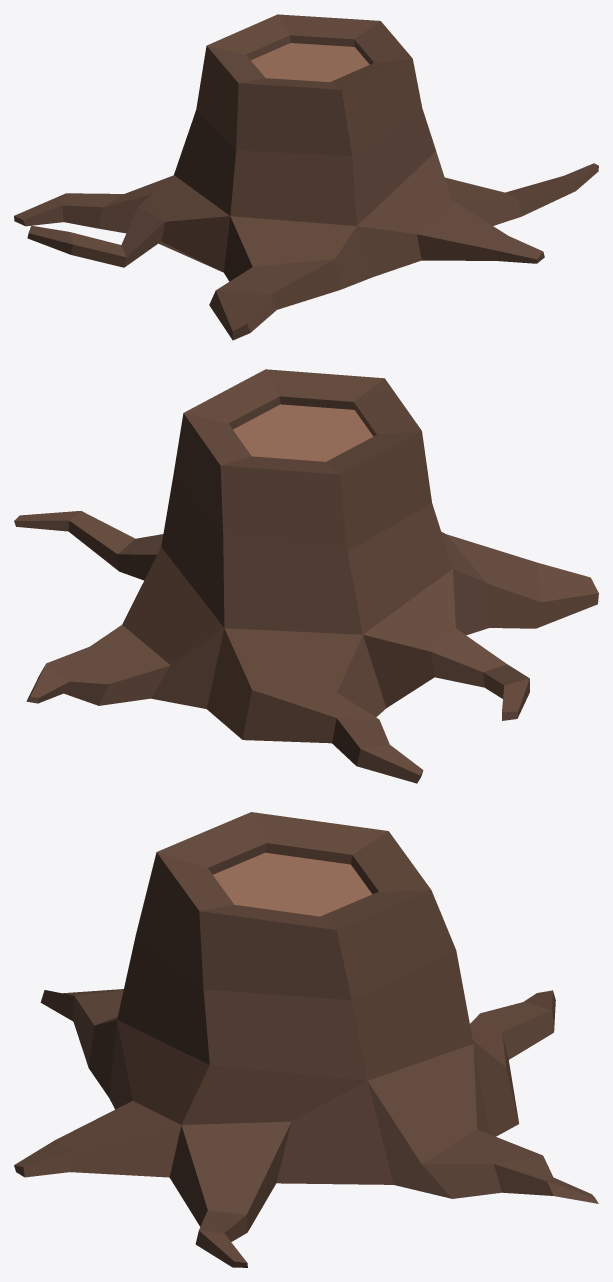
Rendered from Tree_Stump.fbx.
The picture shows the model from 3 angles, top to bottom: view 1: azimuth 30°, elevation 25°; view 2: azimuth 150°, elevation 25°; view 3: azimuth 270°, elevation 25°; orthographic projection. The views are drawn at different scales.
Visible parts, largest first — view 1: Tree_Stump; view 2: Tree_Stump; view 3: Tree_Stump.
Boxes of the visible parts, left/top/right/bottom form: Tree_Stump: left=14, top=14, right=598, bottom=340; Tree_Stump: left=14, top=369, right=598, bottom=783; Tree_Stump: left=14, top=812, right=598, bottom=1267.
Size of the model in its own units: 120 by 48.16 by 90.75.
